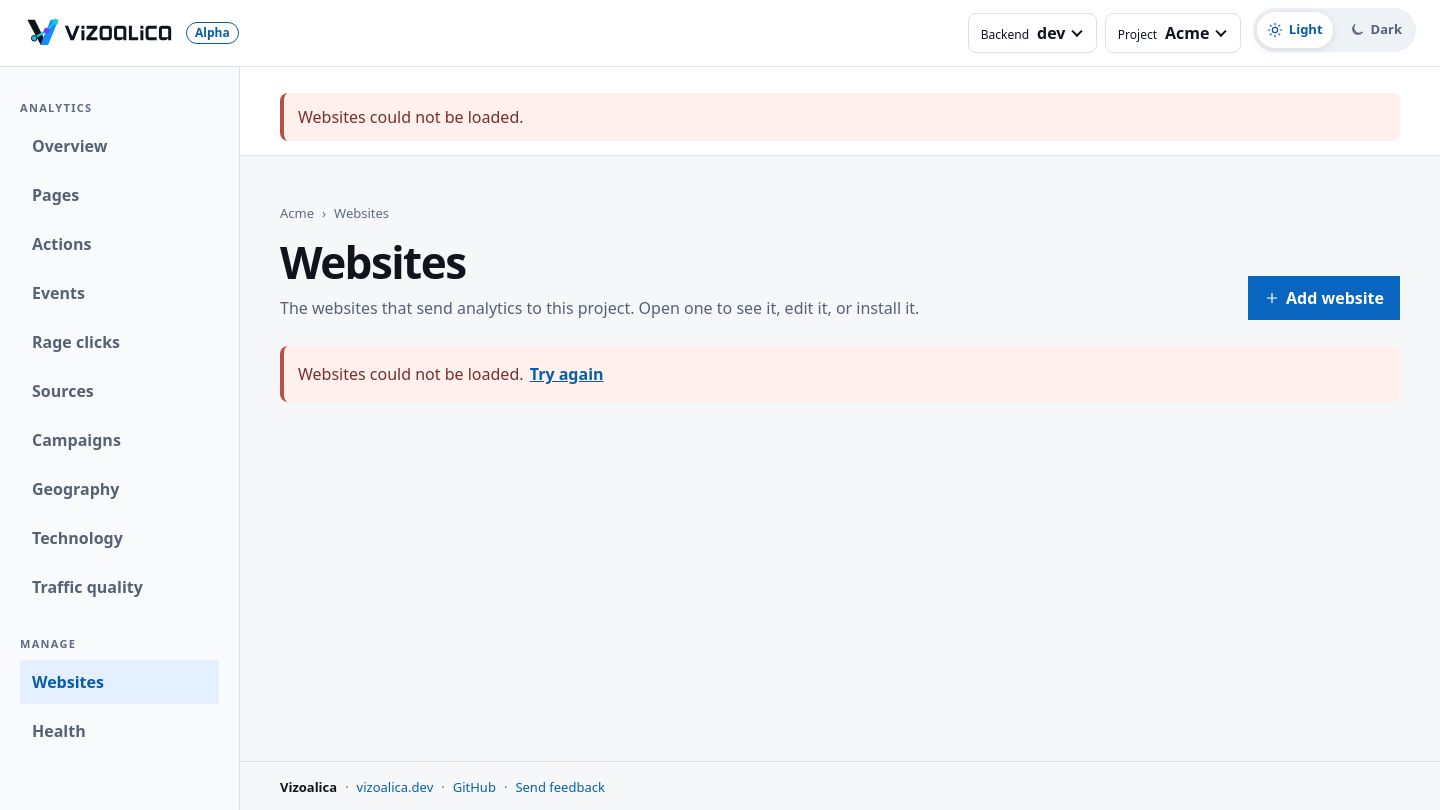
Test: websites list › shows a busy state while loading and recovers from a failed load
Expected: the message "Websites could not be loaded. Try again" is shown, [280, 346, 1400, 402]
Click the button "Try again" at (567, 374), box [528, 358, 606, 390]
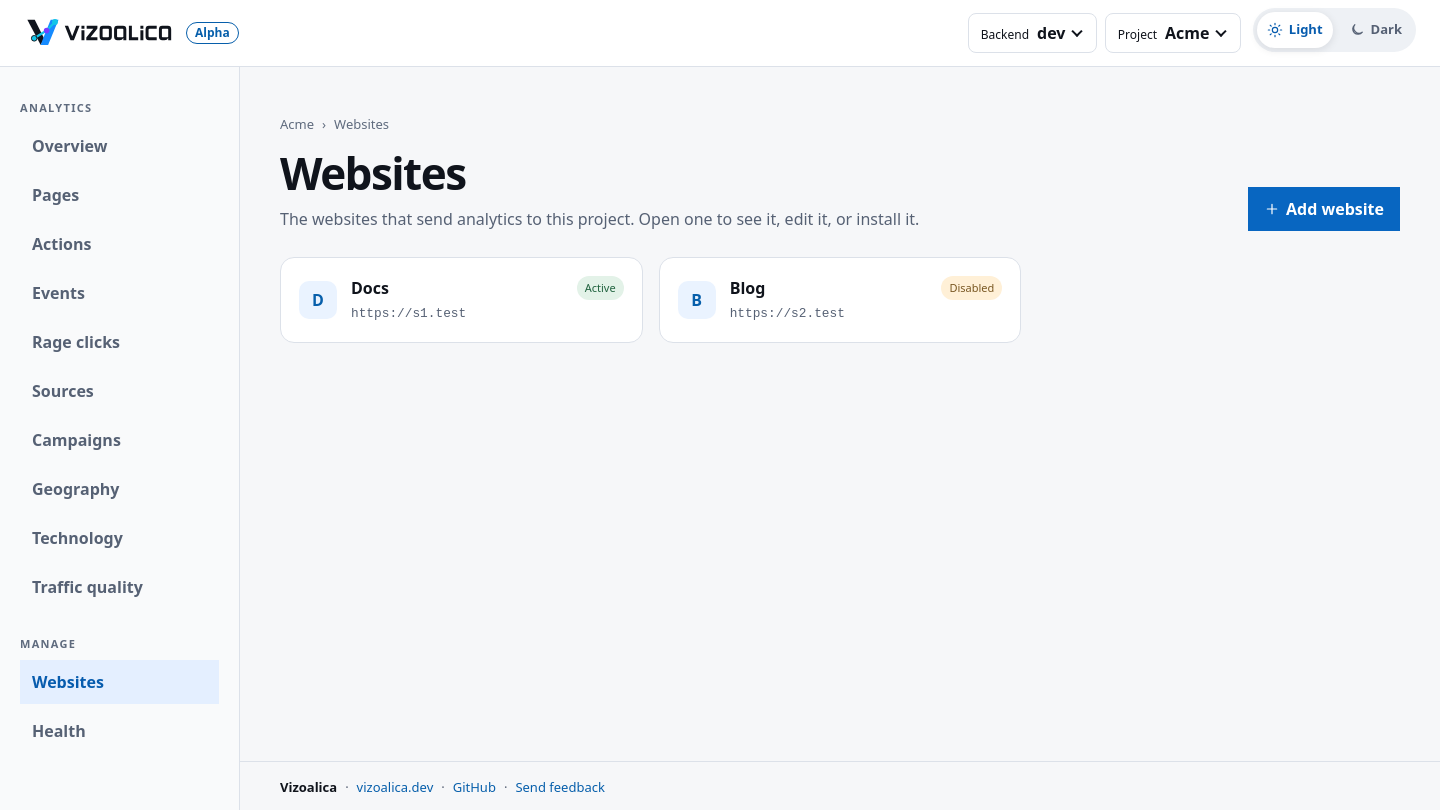
Result: the text "Docs" is shown at [351, 276, 389, 300]
